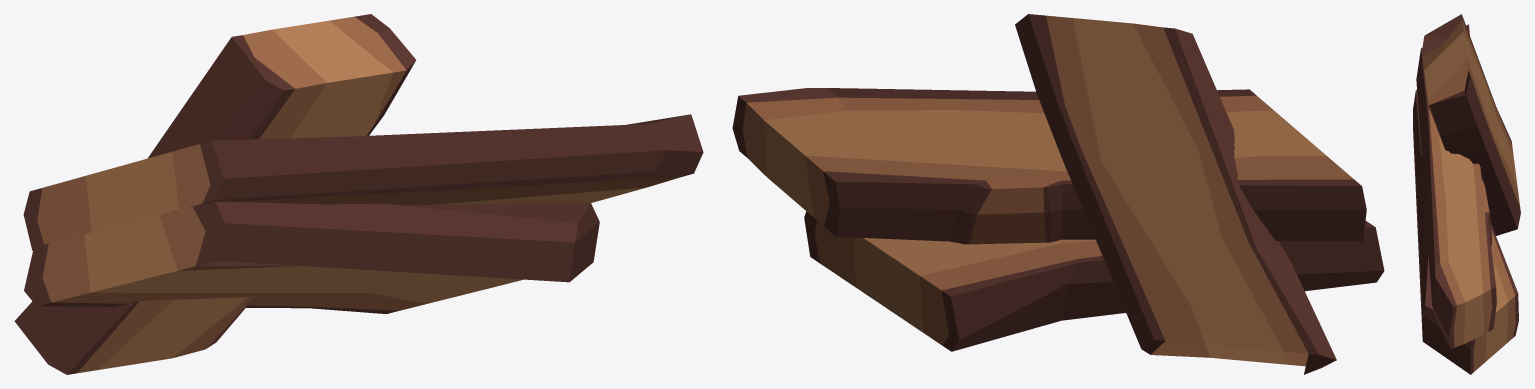
The model's file is icon_planks_stack.fbx.
3 renders of one model, left to right at view 1: azimuth 30°, elevation 25°; view 2: azimuth 150°, elevation 25°; view 3: azimuth 270°, elevation 25°, orthographic. The views are drawn at different scales.
Visible parts, largest first — view 1: icon_planks_stack; view 2: icon_planks_stack; view 3: icon_planks_stack.
Boxes of the visible parts, x1,y1,x2,y2 form: icon_planks_stack: (14, 14, 703, 374); icon_planks_stack: (732, 14, 1384, 374); icon_planks_stack: (1413, 14, 1520, 374).
Size of the model in its own units: 75.79 by 37.74 by 14.53.
